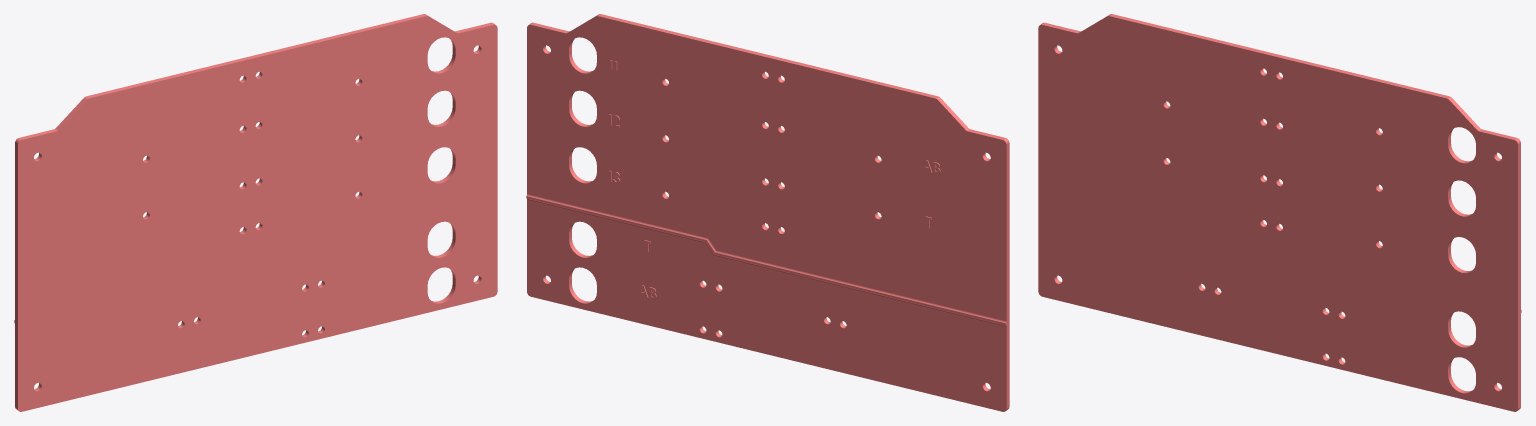
3 renders of one model, left to right at view 1: azimuth 30°, elevation 25°; view 2: azimuth 150°, elevation 25°; view 3: azimuth 330°, elevation 25°, orthographic.
Parts seen in each view (by area): view 1: pneumatic_base_plate-1 - Part; view 2: pneumatic_base_plate-1 - Part; view 3: pneumatic_base_plate-1 - Part.
Part boxes in pixels (bbox=[...]): pneumatic_base_plate-1 - Part: bbox=[14, 14, 497, 411]; pneumatic_base_plate-1 - Part: bbox=[526, 14, 1009, 411]; pneumatic_base_plate-1 - Part: bbox=[1038, 14, 1521, 411].
Size of the model in its own units: 0.24 by 0.142 by 0.003.
